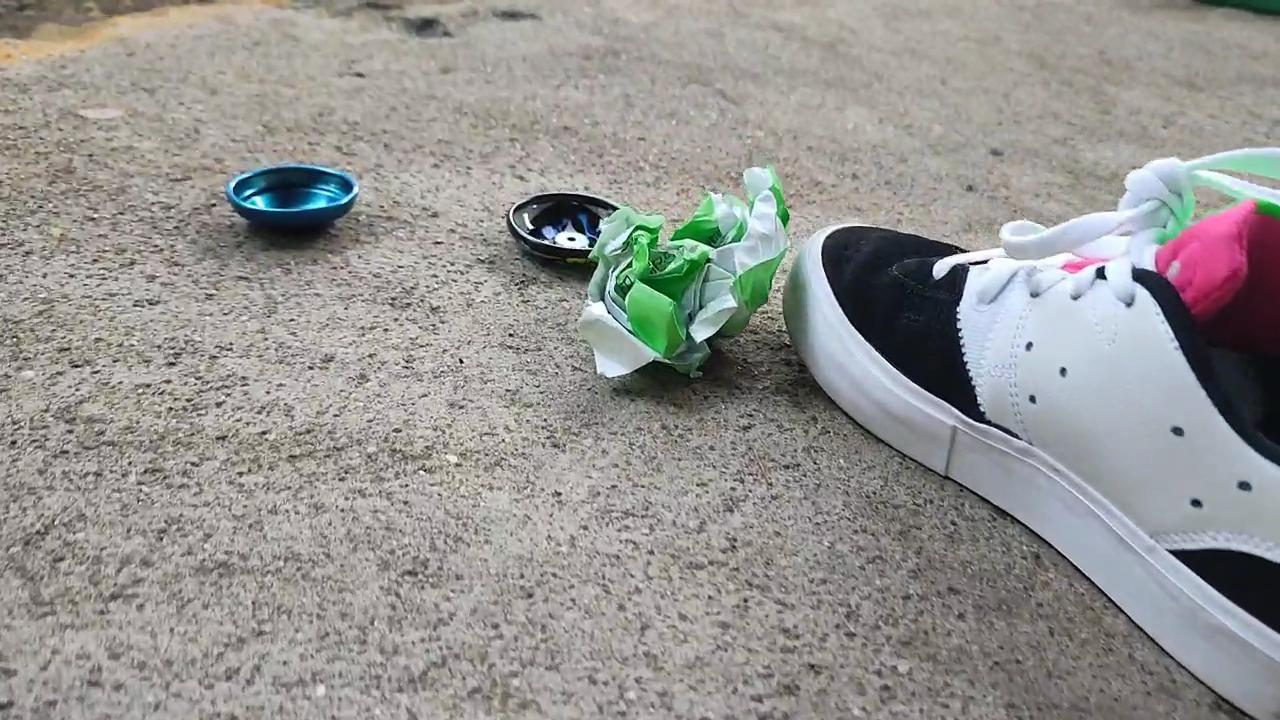Paper: (575, 156, 796, 391)
